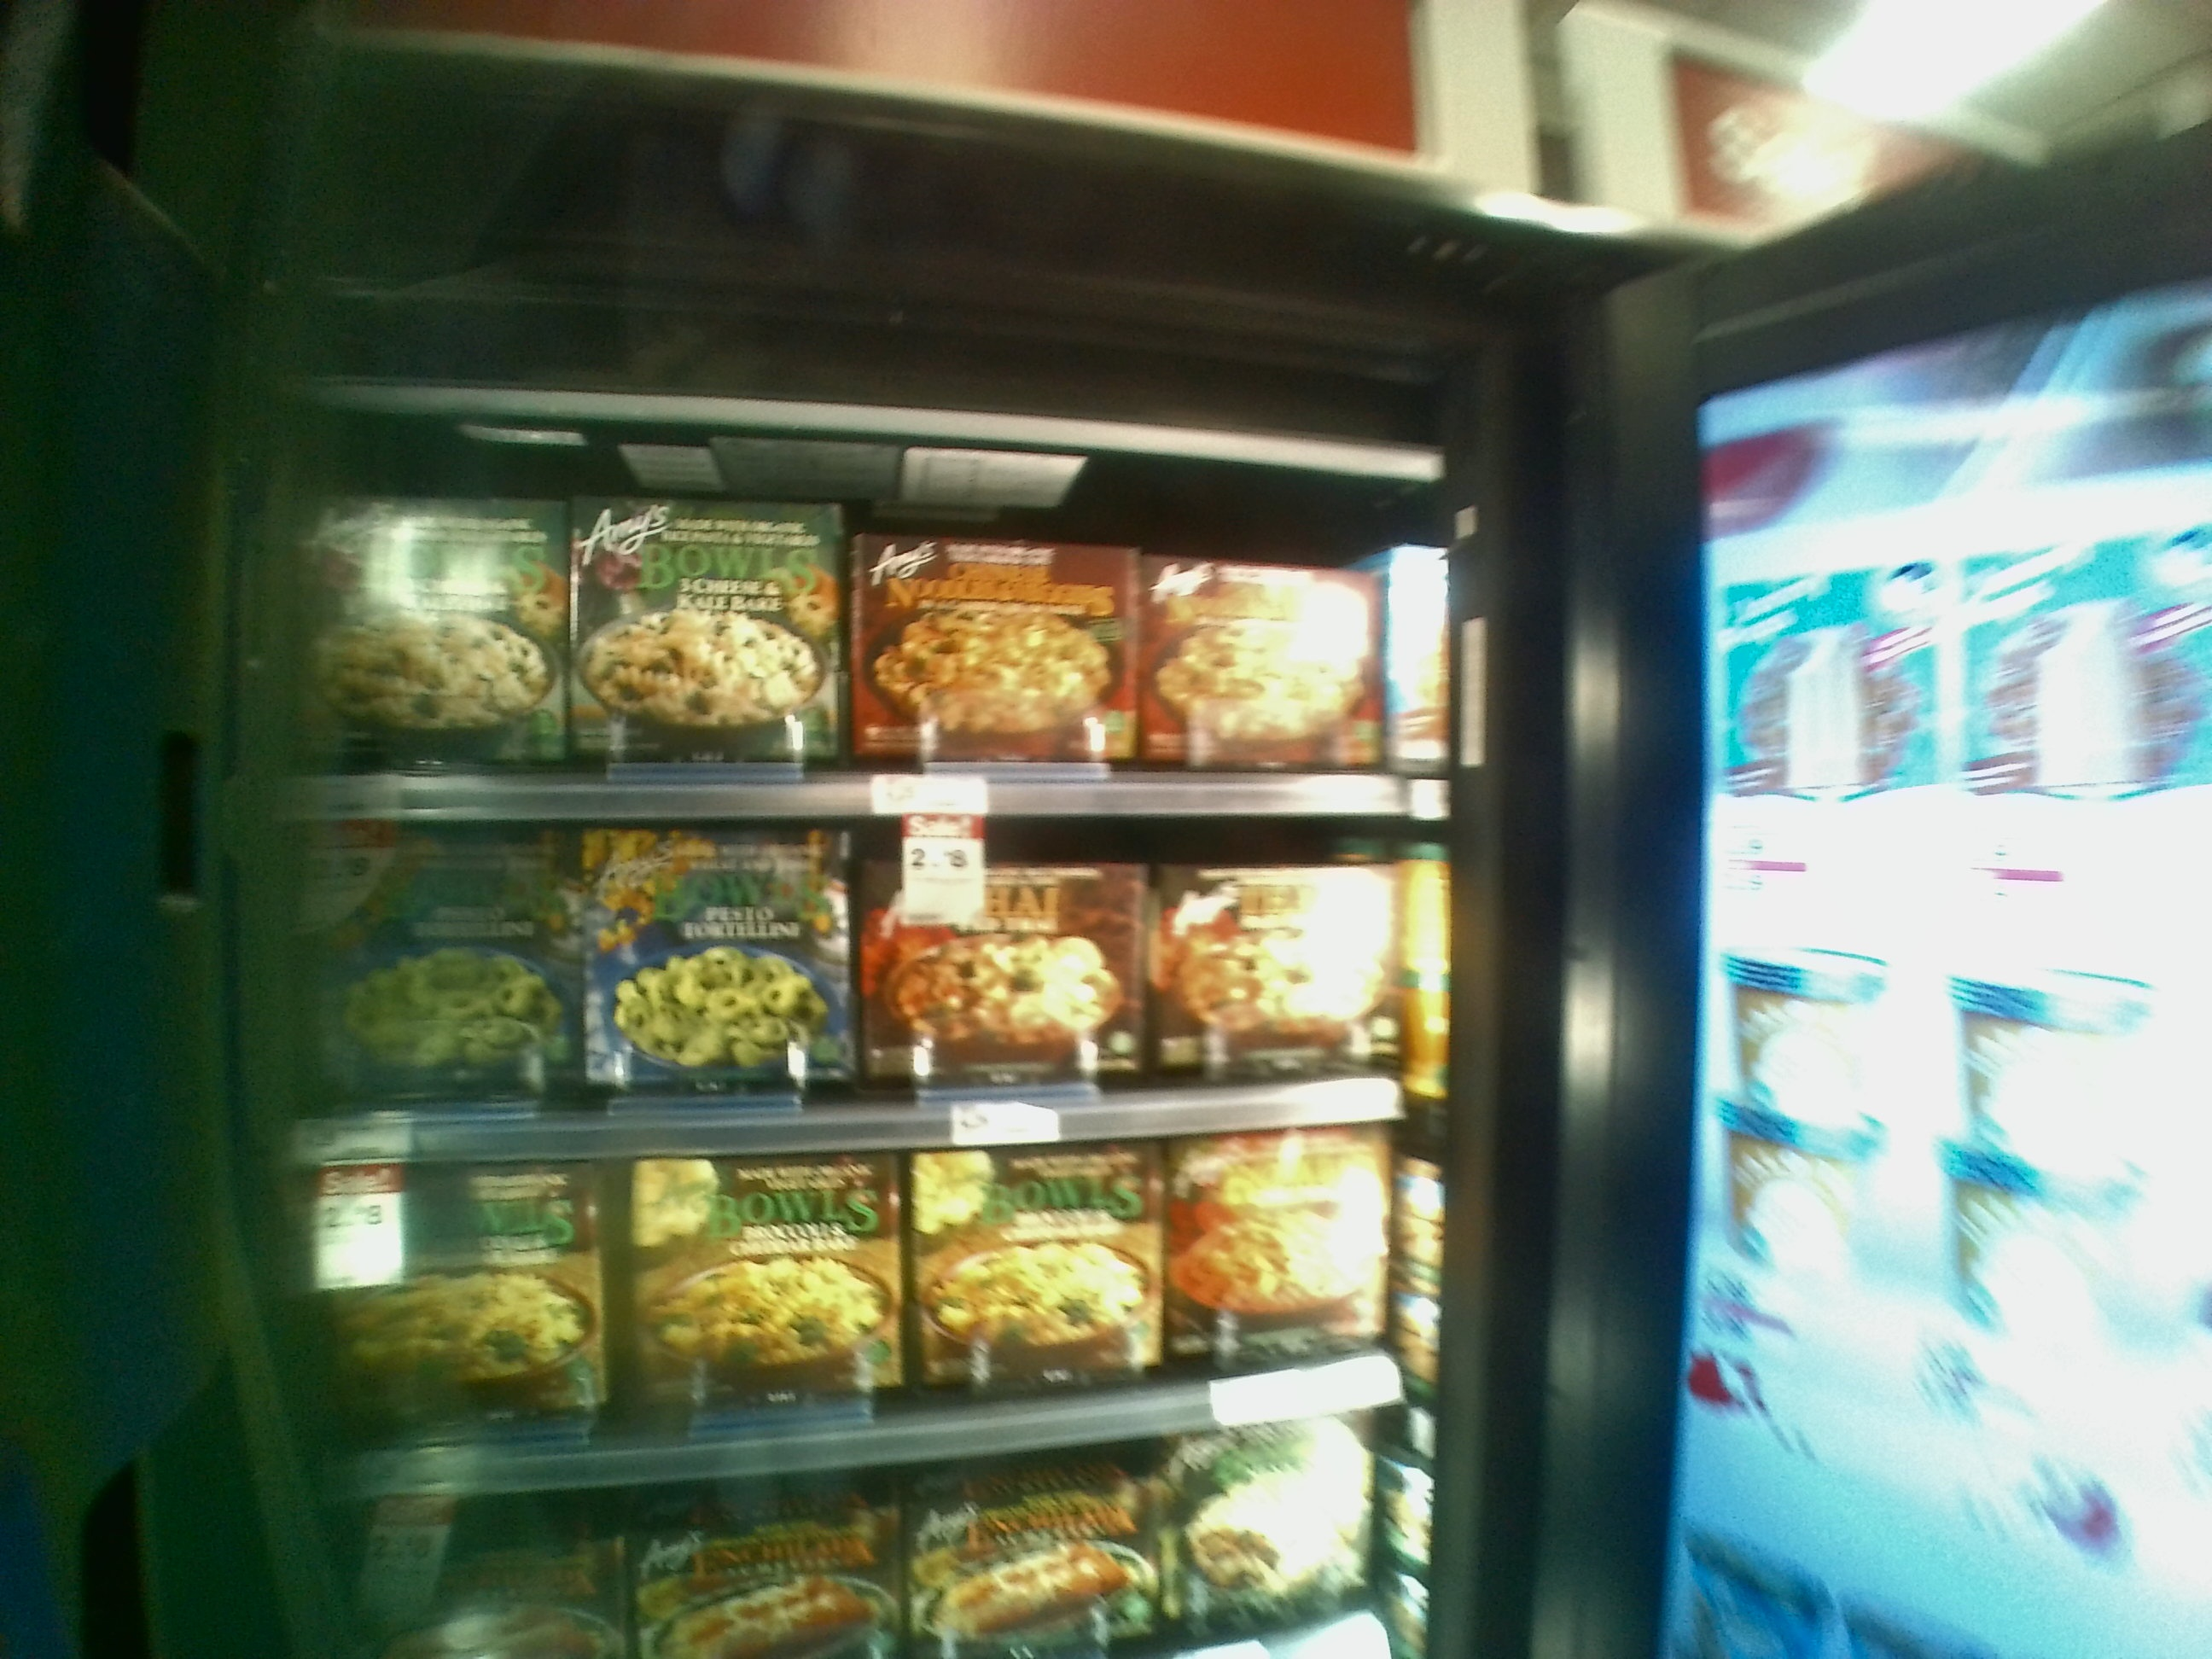shelf: (249, 416, 1413, 829), (279, 824, 1404, 1169), (308, 1166, 1407, 1507)
